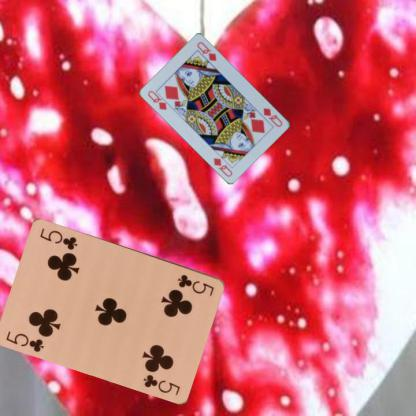5c: (3, 328, 46, 353), (175, 272, 216, 297)
Qd: (145, 88, 173, 111), (260, 105, 284, 128)
